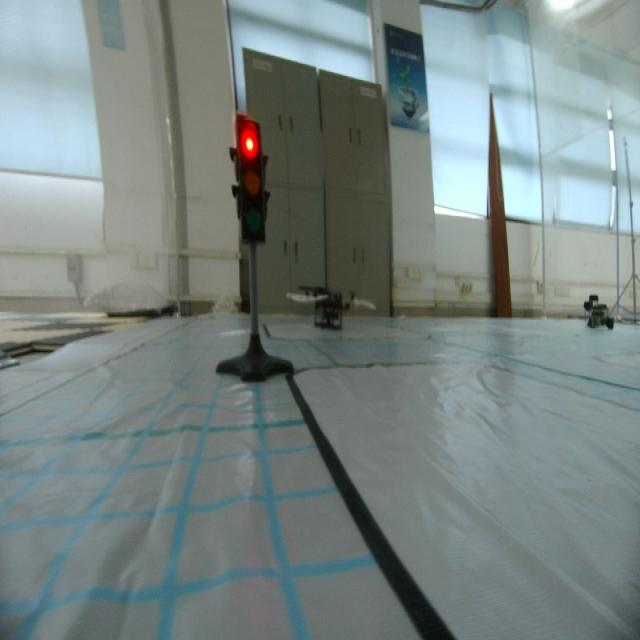red: (227, 108, 271, 253)
